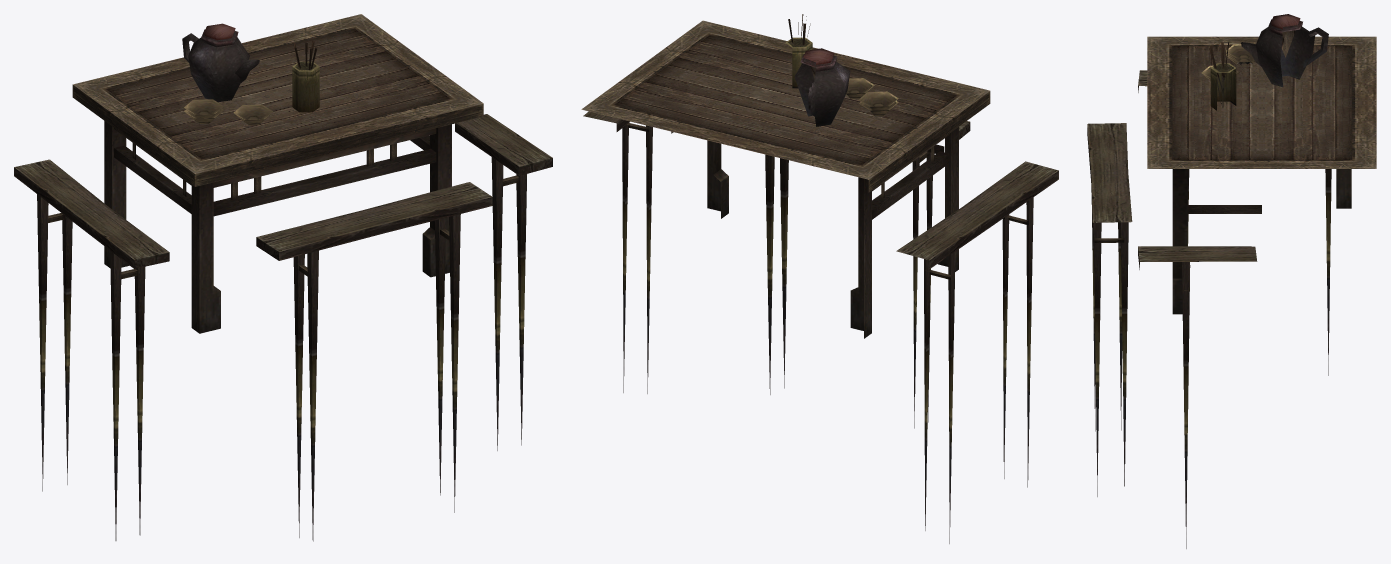
File: zc_erhai_zhuozi01.FBX
The picture shows the model from 3 angles, left to right: view 1: azimuth 30°, elevation 25°; view 2: azimuth 150°, elevation 25°; view 3: azimuth 270°, elevation 25°; orthographic projection. The views are drawn at different scales.
Visible parts, largest first — view 1: zc_erhai_zhuozi01; view 2: zc_erhai_zhuozi01; view 3: zc_erhai_zhuozi01.
Part boxes in pixels (x1,y1,x2,y2): zc_erhai_zhuozi01: (14,14,552,541); zc_erhai_zhuozi01: (581,14,1058,543); zc_erhai_zhuozi01: (1087,14,1376,548).
Size of the model in its own units: 294 by 299 by 188.
